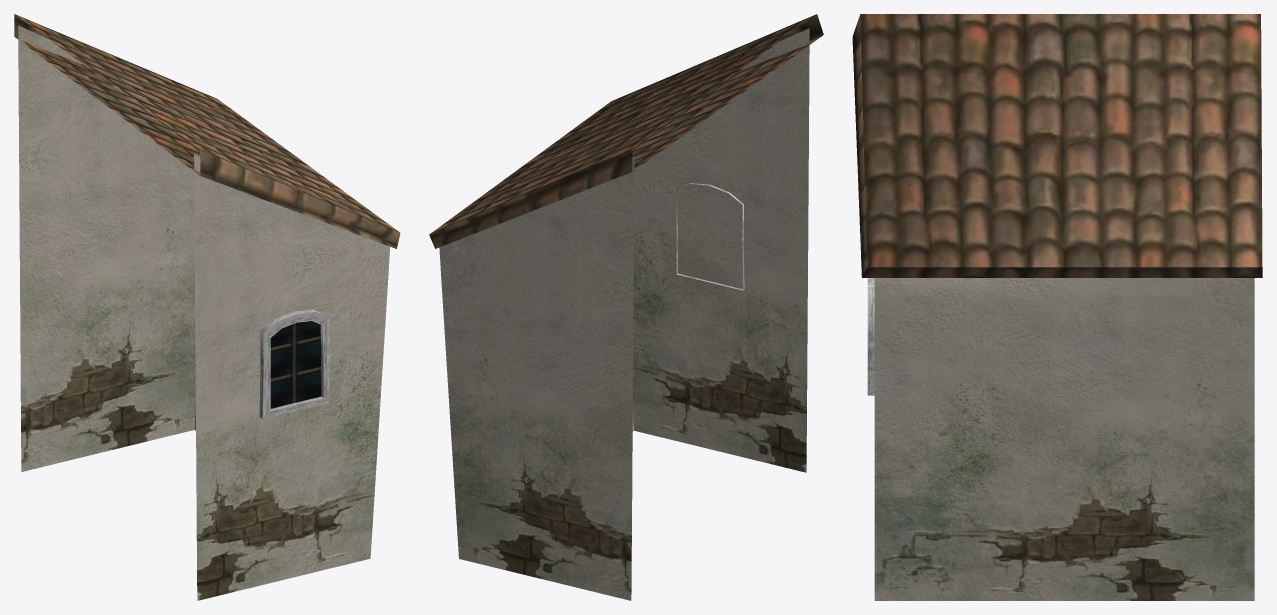
File: spanish_npc_attach_halfporchR.fbx
The picture shows the model from 3 angles, left to right: view 1: azimuth 30°, elevation 25°; view 2: azimuth 150°, elevation 25°; view 3: azimuth 270°, elevation 25°; orthographic projection. The views are drawn at different scales.
Parts seen in each view (by area): view 1: wall, roof, window1, ceiling, window; view 2: wall, roof, ceiling, window; view 3: wall, roof, window.
Part boxes in pixels (x1=…): wall: x1=18, y1=25, x2=389, y2=600; roof: x1=14, y1=14, x2=400, y2=248; window1: x1=265, y1=321, x2=321, y2=408; ceiling: x1=15, y1=37, x2=200, y2=175; window: x1=259, y1=309, x2=329, y2=419; wall: x1=439, y1=28, x2=809, y2=600; roof: x1=429, y1=14, x2=823, y2=248; ceiling: x1=632, y1=35, x2=822, y2=171; window: x1=676, y1=183, x2=744, y2=290; wall: x1=874, y1=278, x2=1254, y2=600; roof: x1=852, y1=14, x2=1262, y2=277; window: x1=867, y1=278, x2=874, y2=395.
Bounding box in the file's own units: 977 × 2064 × 1554.
Materials: 1 (1 with a texture image).
